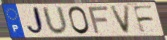F: (132, 5, 156, 35), (87, 5, 110, 35)
J: (25, 6, 46, 37)
O: (68, 5, 92, 36)
U: (40, 5, 70, 36)
V: (109, 5, 132, 36)
